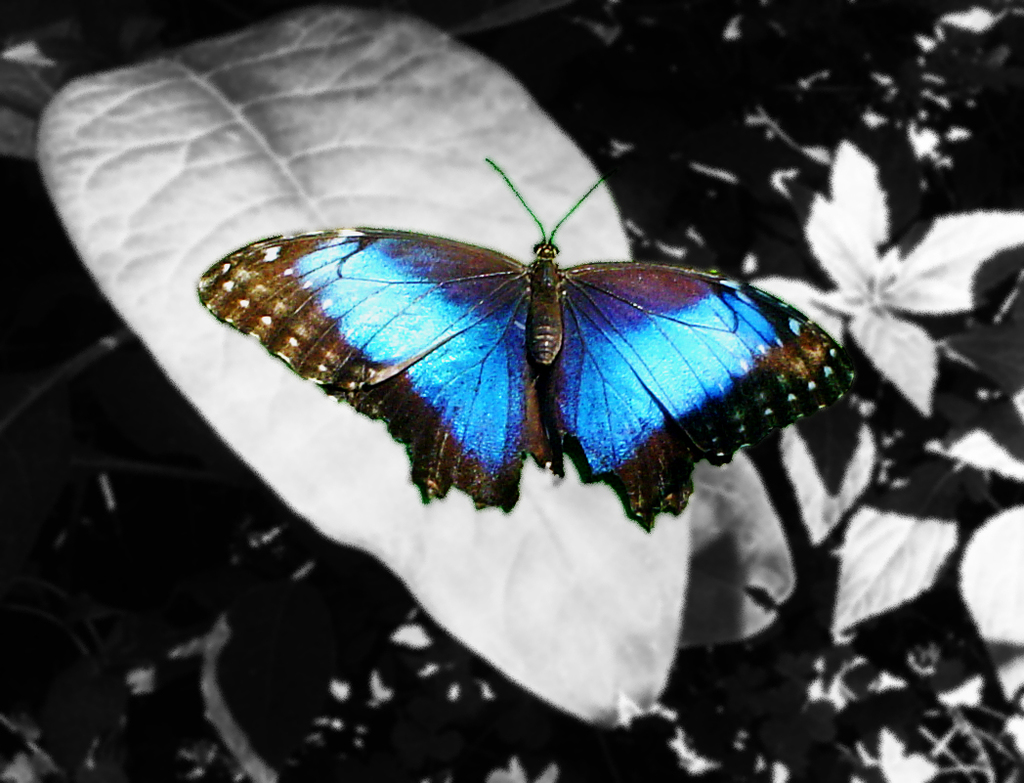Butterfly: (208, 162, 854, 533)
